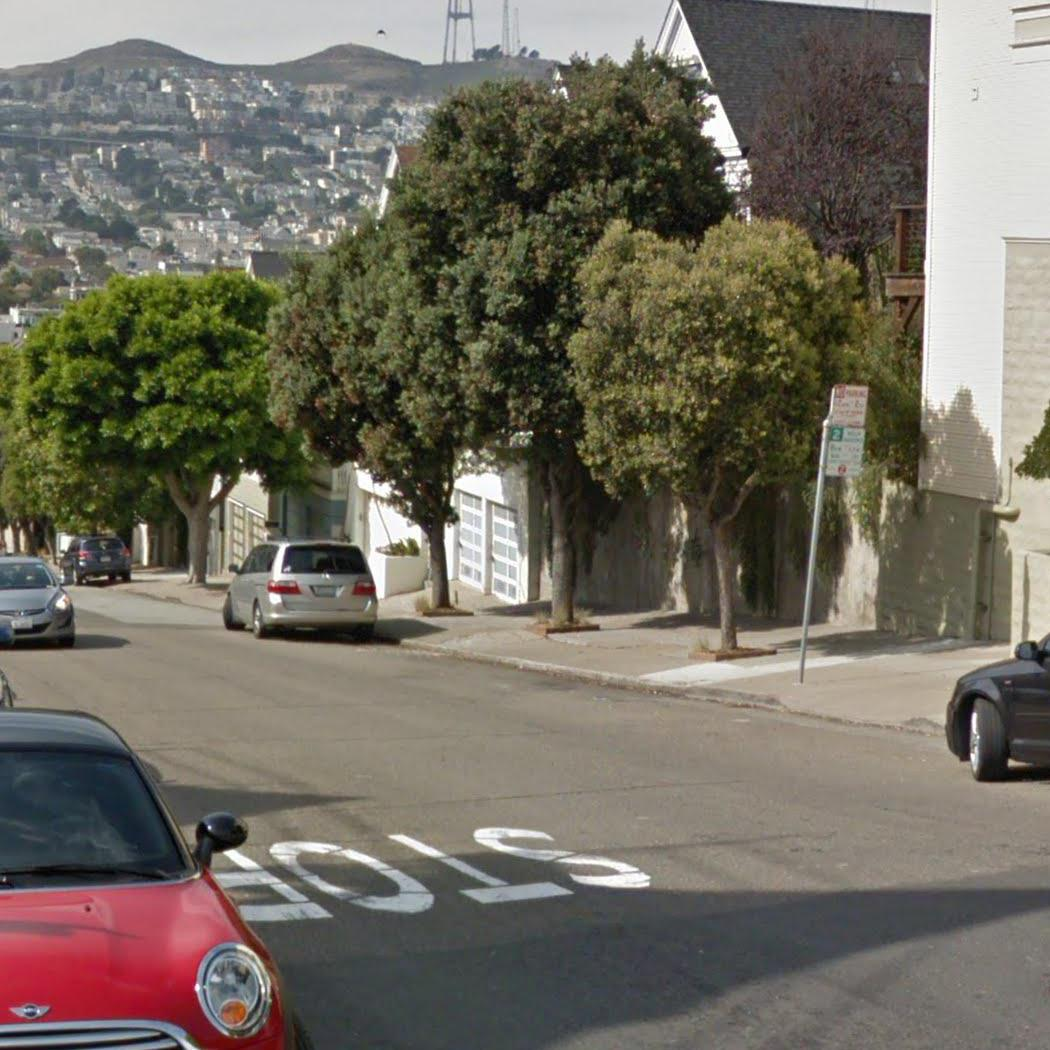2 Hour Parking: (818, 430, 868, 477)
No Parking: (824, 381, 871, 428)
